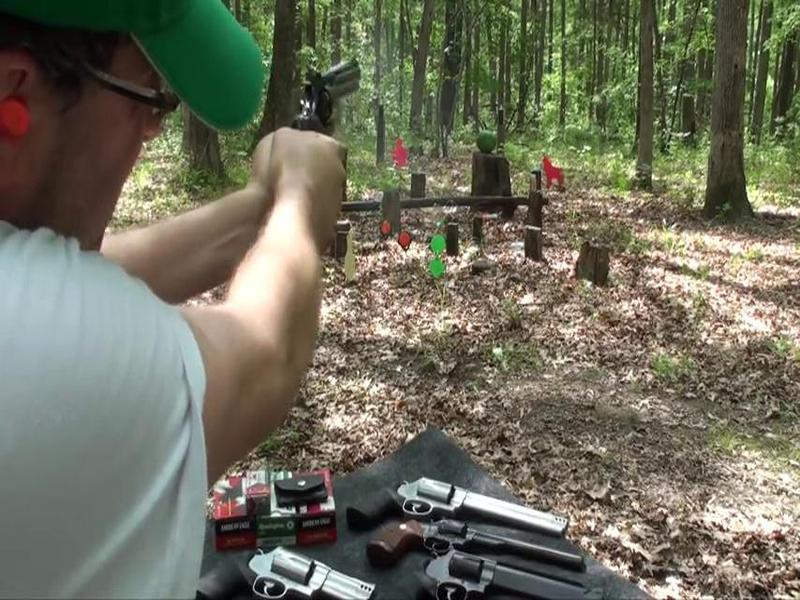Revolver: (282, 30, 362, 164)
